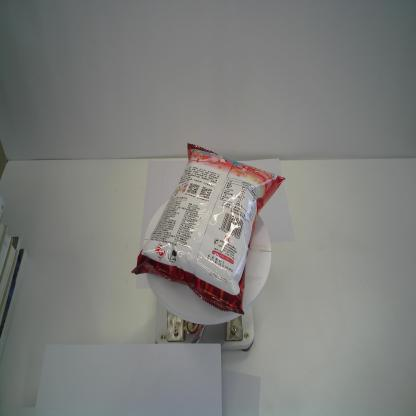Puffed Food: (131, 140, 285, 316)
